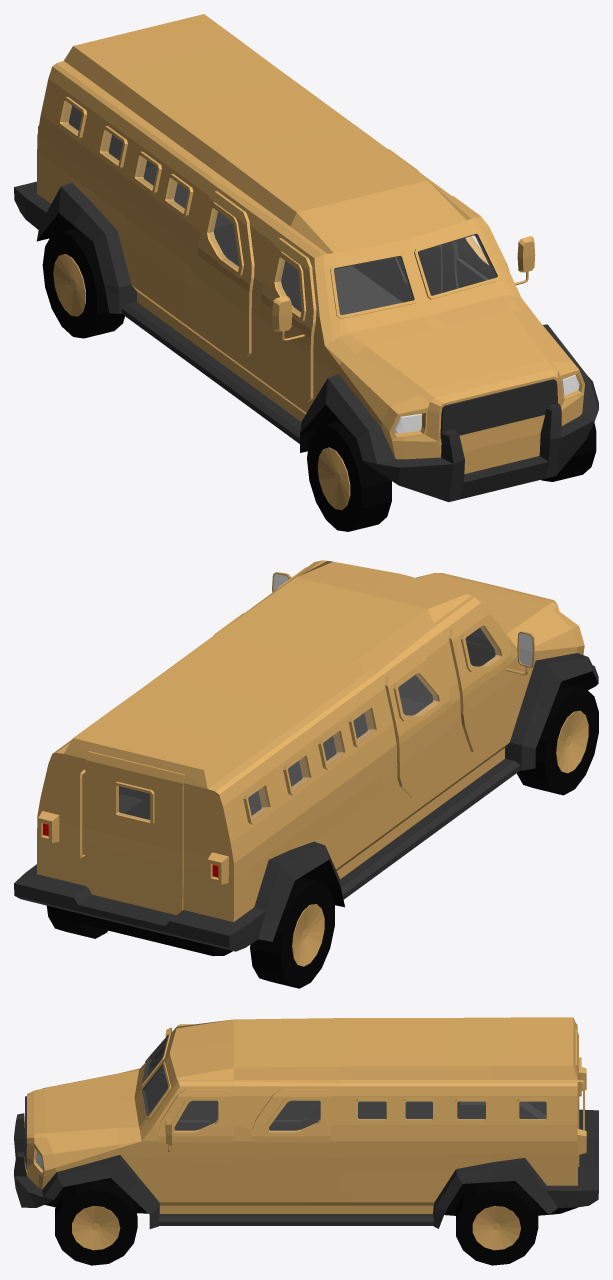
3 renders of one model, top to bottom at view 1: azimuth 30°, elevation 25°; view 2: azimuth 150°, elevation 25°; view 3: azimuth 270°, elevation 25°, orthographic. The views are drawn at different scales.
Visible parts, largest first — view 1: Plane.024, Plane.027, Plane.031, Plane.030, Plane.029, Cylinder.012, Cylinder.013, Plane.025, Cylinder.014, Plane.026; view 2: Plane.024, Plane.028, Plane.030, Plane.031, Cylinder.013, Cylinder.012, Plane.029, Plane.027, Cylinder.015; view 3: Plane.024, Plane.026, Plane.025, Cylinder.014, Cylinder.015, Plane.029, Plane.027, Plane.030, Plane.031, Plane.028.
Part boxes in pixels (x1,y1,x2,y2): Plane.024: (14,14,598,502); Plane.027: (62,102,496,314); Plane.031: (197,191,254,357); Plane.030: (261,238,316,402); Plane.029: (68,106,497,314); Cylinder.012: (307,421,391,531); Cylinder.013: (42,228,124,338); Plane.025: (452,196,535,287); Cylinder.014: (541,422,596,481); Plane.026: (388,149,442,295); Plane.024: (14,560,598,956); Plane.028: (86,751,184,910); Plane.030: (448,609,534,753); Plane.031: (384,655,451,797); Cylinder.013: (250,877,334,988); Cylinder.012: (516,682,598,795); Plane.029: (119,627,495,819); Plane.027: (249,709,374,818); Cylinder.015: (47,905,107,938); Plane.024: (14,1017,598,1228); Plane.026: (252,1089,330,1192); Plane.025: (159,1089,233,1193); Cylinder.014: (55,1180,137,1265); Cylinder.015: (456,1181,538,1265); Plane.029: (142,1035,546,1130); Plane.027: (143,1038,545,1119); Plane.030: (159,1027,218,1120); Plane.031: (274,1100,320,1119); Plane.028: (575,1029,581,1166).
Bounding box in the file's own units: 295 × 257 × 751.
